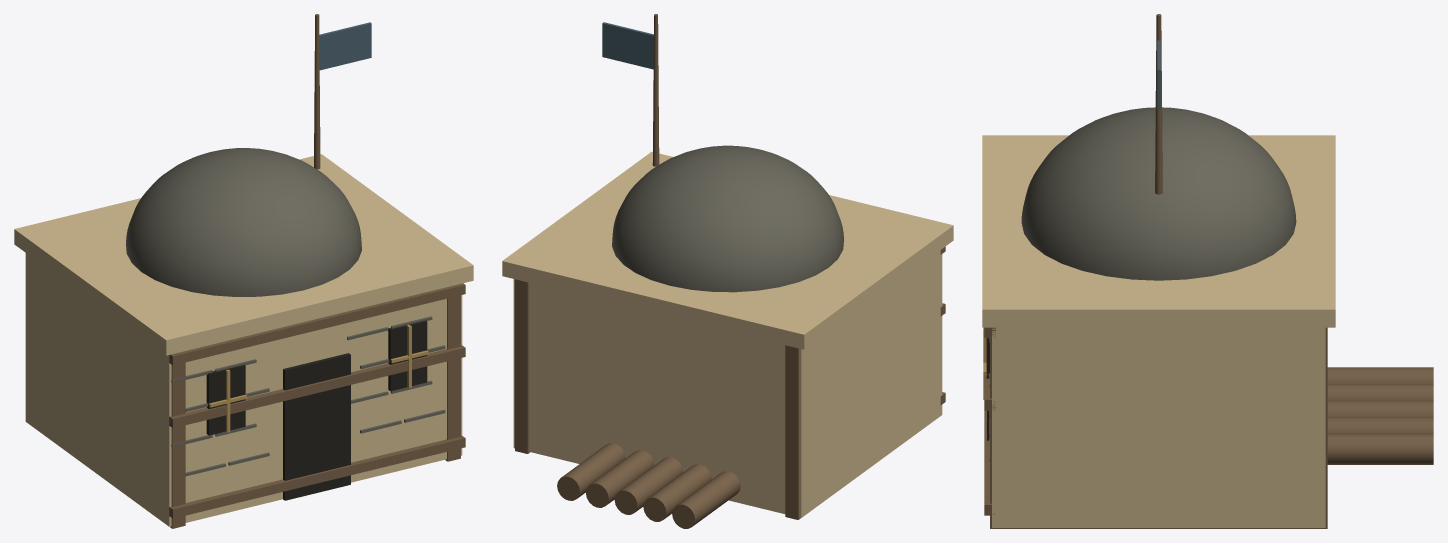
Rendered from b-lumber-ayyubid.glb.
3 views of the same model, side by side, from view 1: azimuth 30°, elevation 25°; view 2: azimuth 150°, elevation 25°; view 3: azimuth 270°, elevation 25° (orthographic). The views are drawn at different scales.
Visible parts, largest first — view 1: Structure; view 2: Structure; view 3: Structure.
Boxes of the visible parts, x1,y1,x2,y2 form: Structure: (14,14,473,528); Structure: (502,14,953,528); Structure: (982,14,1433,528).
Size of the model in its own units: 4.2 by 5.33 by 4.6.
